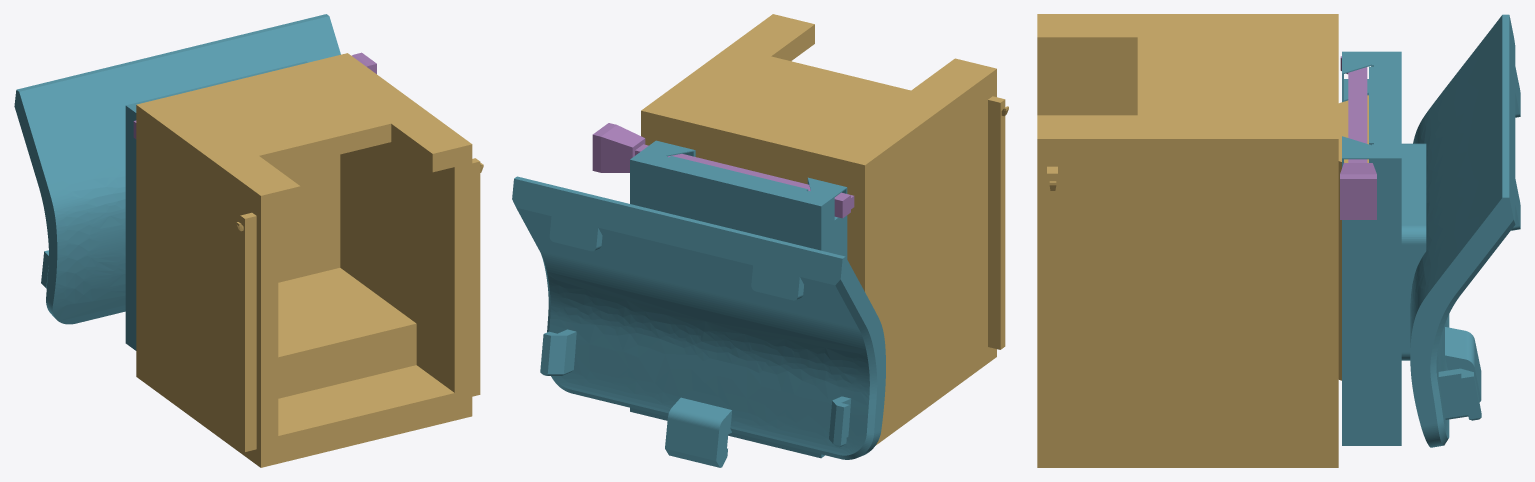
File: V23_USB_Down.glb
3 renders of one model, left to right at view 1: azimuth 30°, elevation 25°; view 2: azimuth 150°, elevation 25°; view 3: azimuth 270°, elevation 25°, orthographic. The views are drawn at different scales.
Visible parts, largest first — view 1: Box_2, Vader_mount; view 2: Vader_mount, Box_2, Lock_key; view 3: Box_2, Vader_mount, Lock_key.
Part boxes in pixels (bbox=[...]): Box_2: bbox=[136, 53, 483, 467]; Vader_mount: bbox=[14, 14, 340, 350]; Vader_mount: bbox=[512, 140, 885, 467]; Box_2: bbox=[641, 14, 1008, 445]; Lock_key: bbox=[592, 123, 854, 218]; Box_2: bbox=[1037, 14, 1368, 467]; Vader_mount: bbox=[1342, 14, 1520, 447]; Lock_key: bbox=[1340, 56, 1376, 219].
Bounding box in the file's own units: 35.2 × 29.5 × 39.28.
